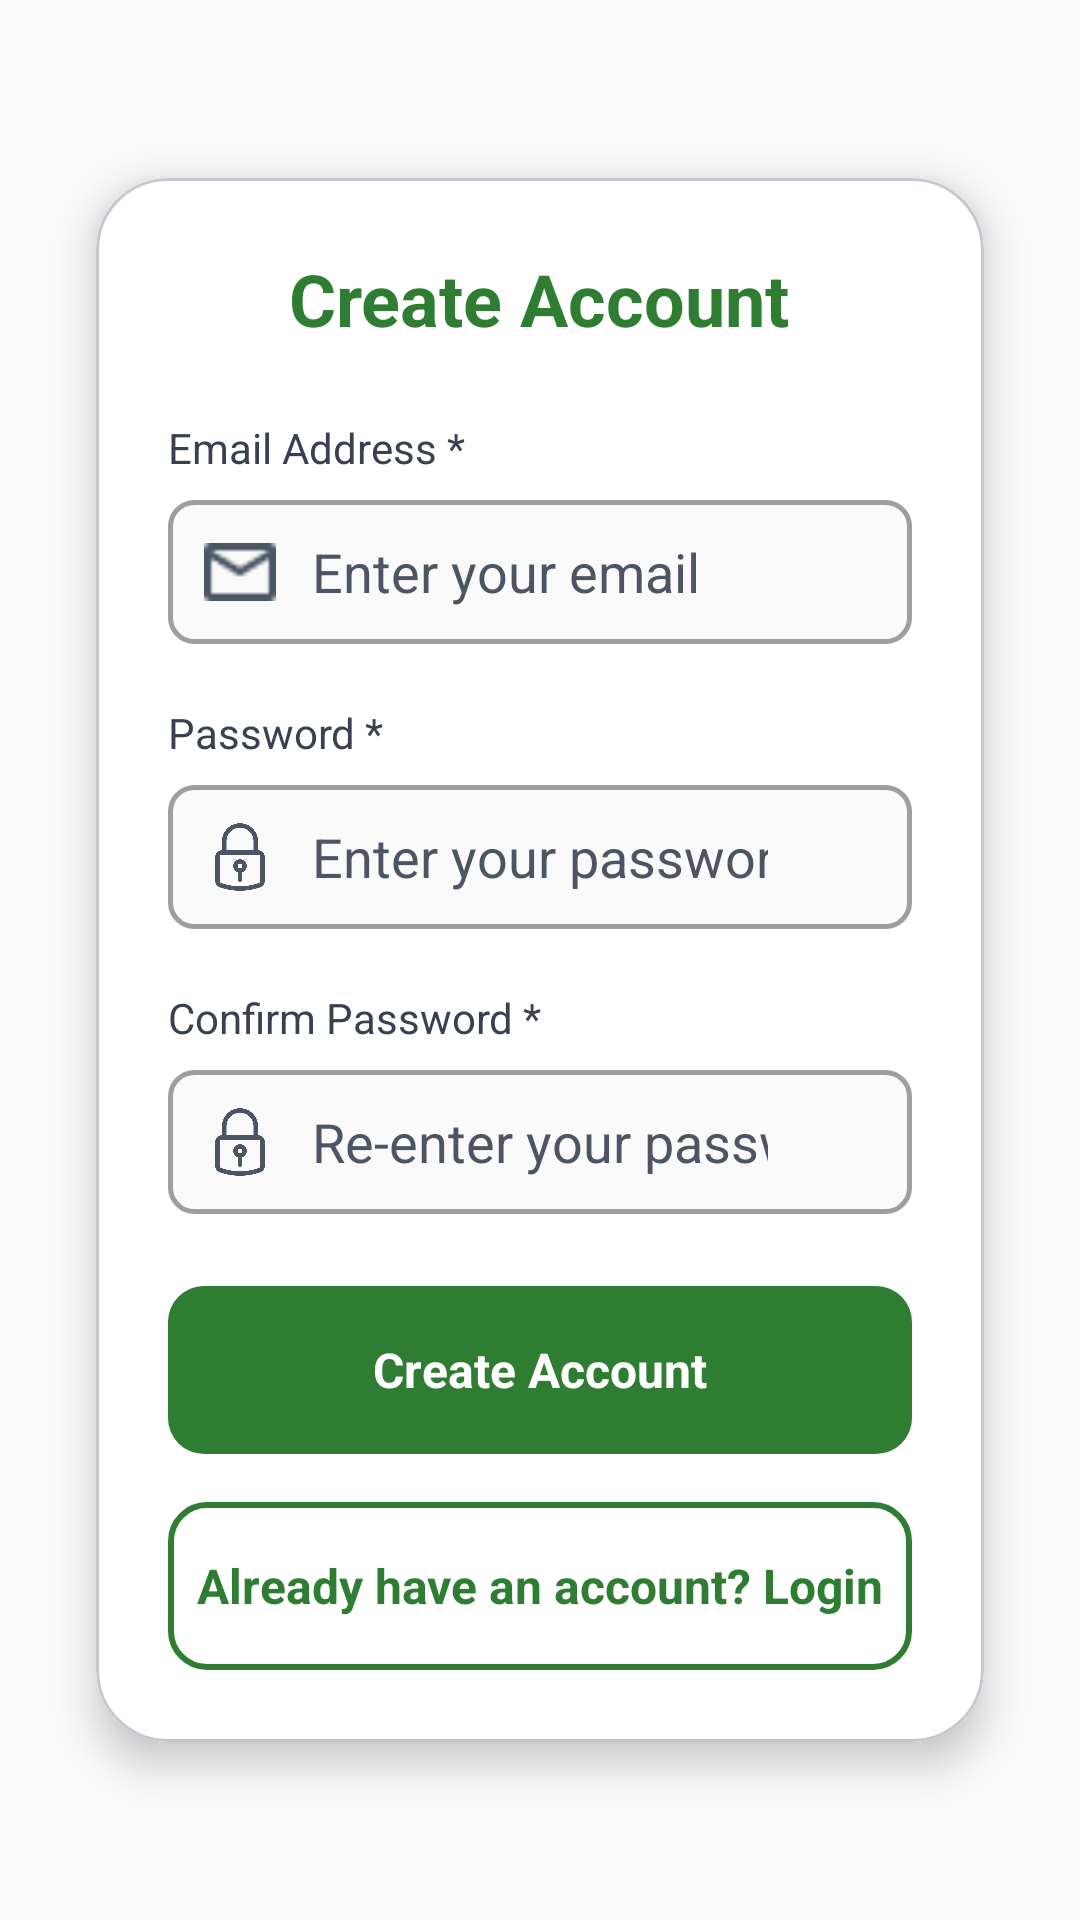

Locate icon controls on the screen. Image size 1080px×1920px, boxes as (x1, y1, x2, y2).
lock: (215, 823, 265, 891), (215, 1108, 265, 1176)
